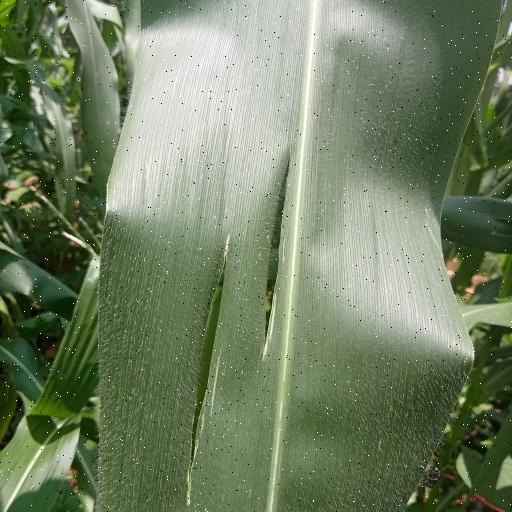Corn_Brown_Spots: (61, 5, 501, 512)
